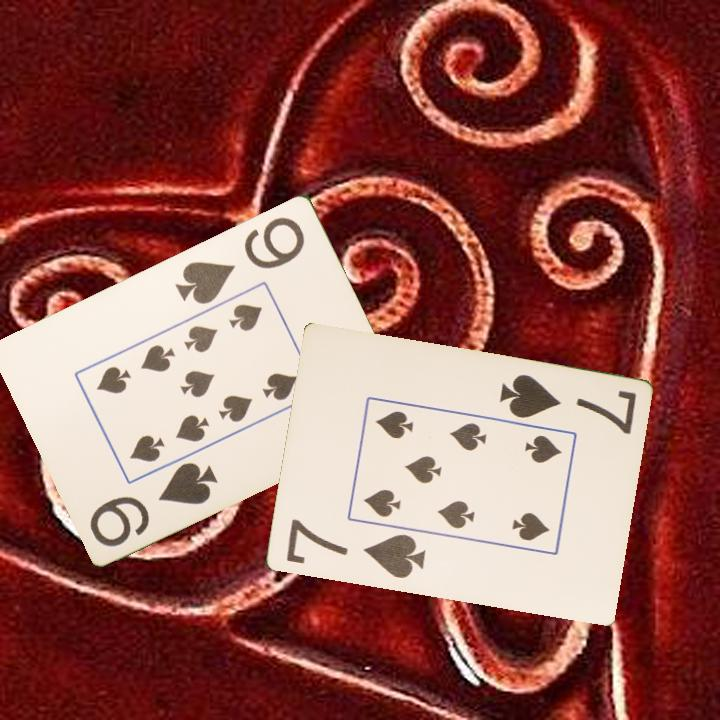7s: (282, 515, 428, 582), (495, 371, 639, 438)
9s: (171, 212, 308, 307), (86, 457, 222, 550)
